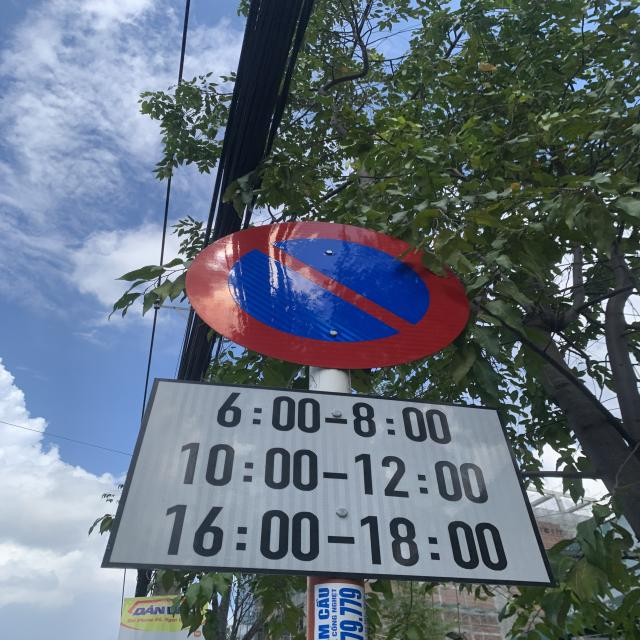Cam_Dau_Xe: (184, 216, 472, 368)
